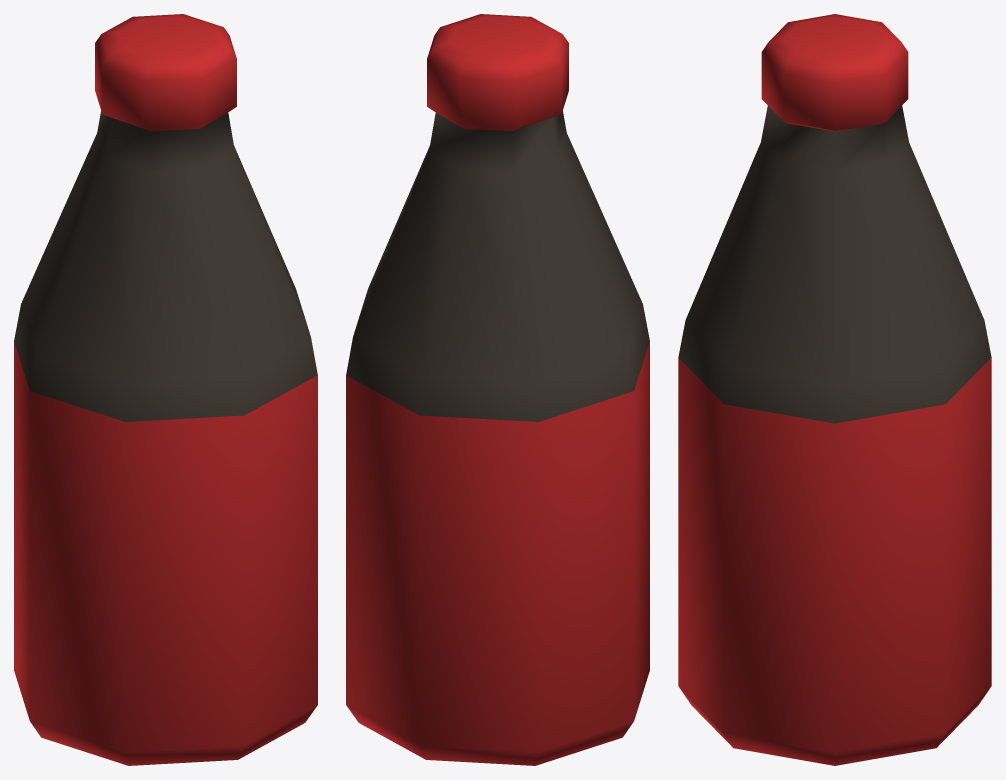
Rendered from cola_bottle.fbx.
3 renders of one model, left to right at view 1: azimuth 30°, elevation 25°; view 2: azimuth 150°, elevation 25°; view 3: azimuth 270°, elevation 25°, orthographic.
Visible parts, largest first — view 1: cola_bottle; view 2: cola_bottle; view 3: cola_bottle.
Part boxes in pixels (x1,y1,x2,y2): cola_bottle: [14, 14, 317, 765]; cola_bottle: [346, 14, 649, 765]; cola_bottle: [678, 14, 991, 765].
Bounding box in the file's own units: 0.08 × 0.1903 × 0.08.
